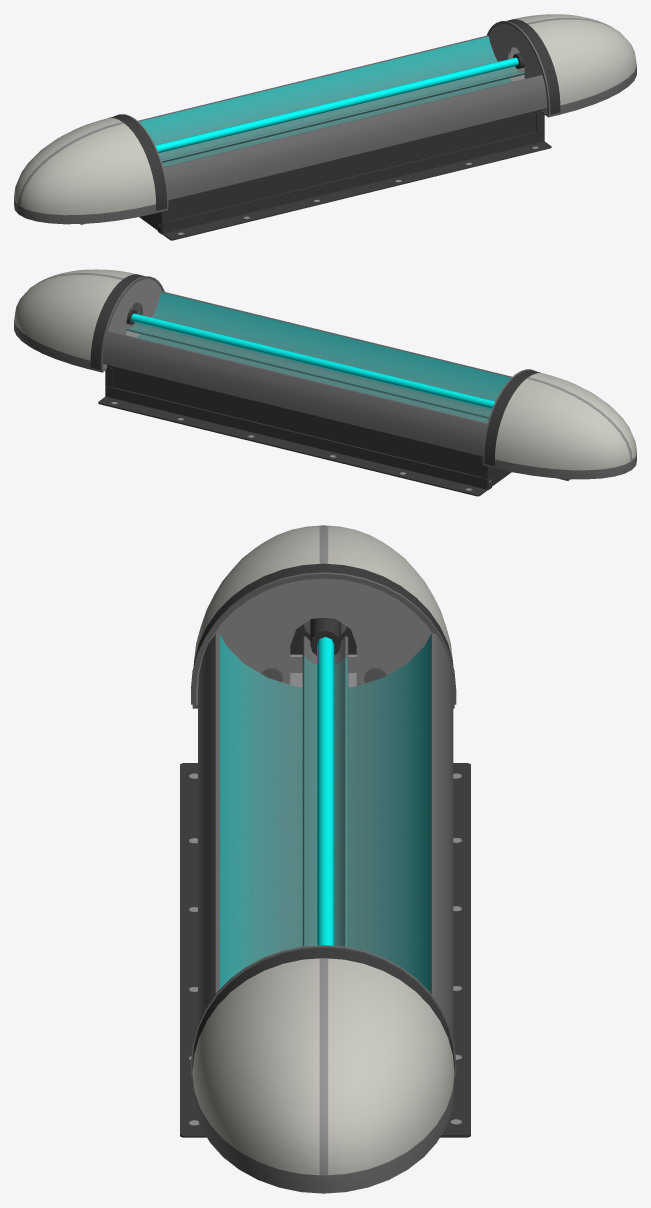
Rendered from EDITOR_hard_light_emitter.obj.
The picture shows the model from 3 angles, top to bottom: view 1: azimuth 30°, elevation 25°; view 2: azimuth 150°, elevation 25°; view 3: azimuth 270°, elevation 25°; orthographic projection. The views are drawn at different scales.
Parts seen in each view (by area): view 1: Body.dmx/hard_light_emitter_model.dmx.mesh_0; view 2: Body.dmx/hard_light_emitter_model.dmx.mesh_0; view 3: Body.dmx/hard_light_emitter_model.dmx.mesh_0.
Boxes of the visible parts, x1,y1,x2,y2 form: Body.dmx/hard_light_emitter_model.dmx.mesh_0: (14, 14, 636, 240); Body.dmx/hard_light_emitter_model.dmx.mesh_0: (14, 269, 636, 496); Body.dmx/hard_light_emitter_model.dmx.mesh_0: (180, 525, 470, 1193).
Bounding box in the file's own units: 117 × 17.47 × 24.01.
